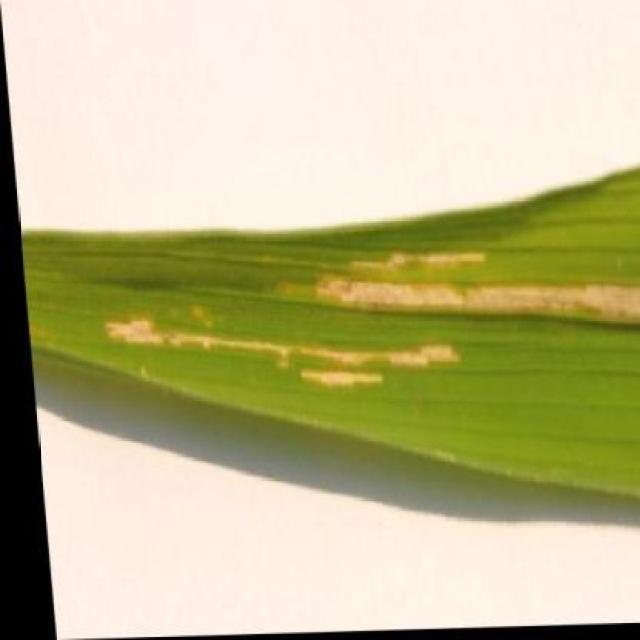Brown_Spot: (67, 217, 640, 428)
